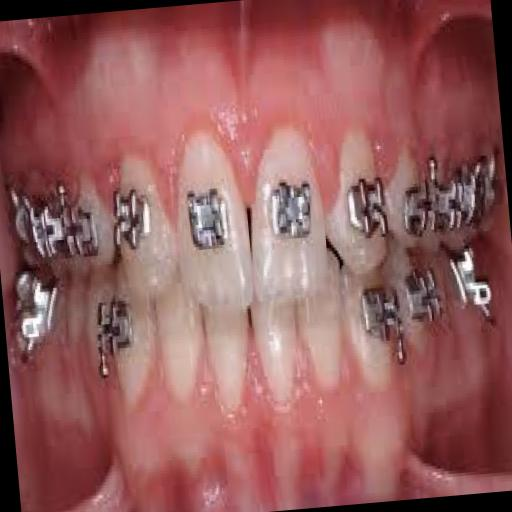correct_brace: (184, 176, 238, 263), (263, 173, 319, 246)
